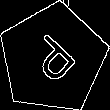P_SE: (22, 27, 84, 90)
